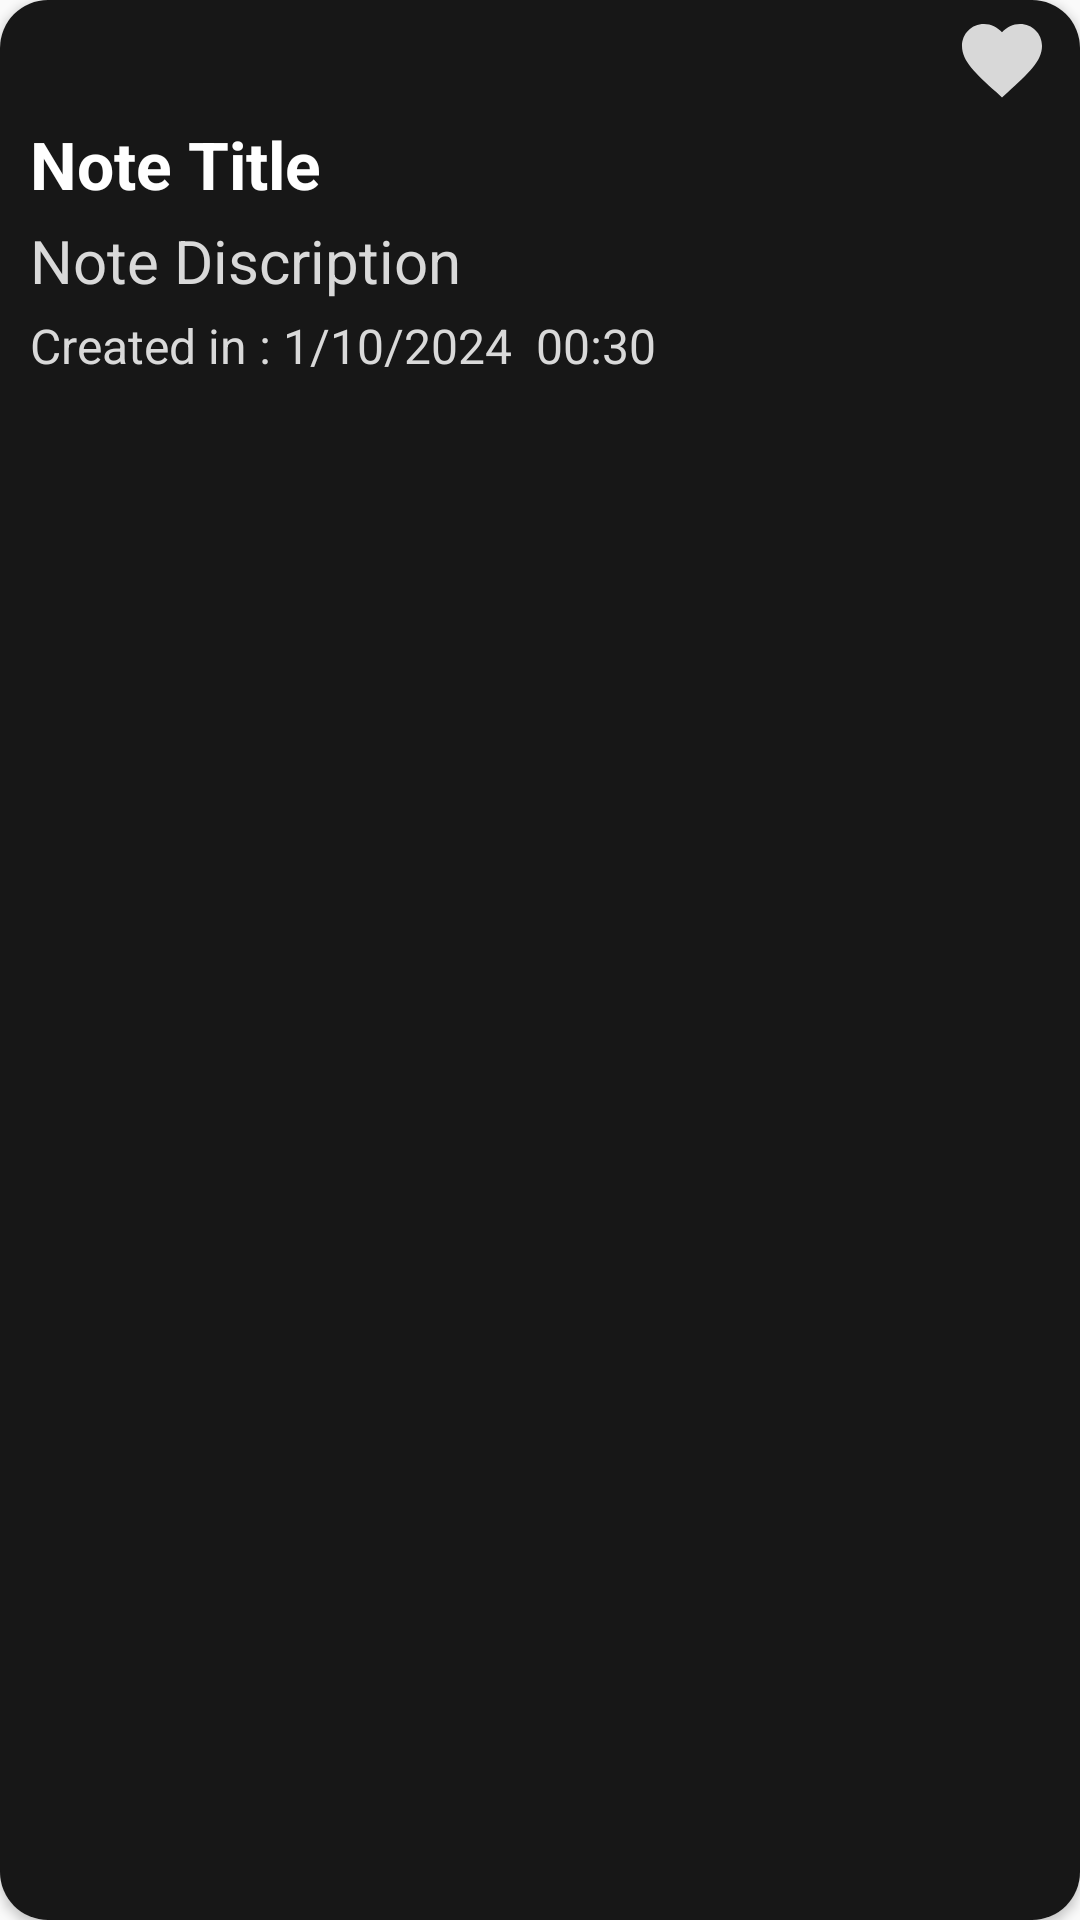

Where icons sit on this 1080px x 1920px app screen, as (x1, y1, x2, y2):
favorite: (962, 24, 1042, 98)
